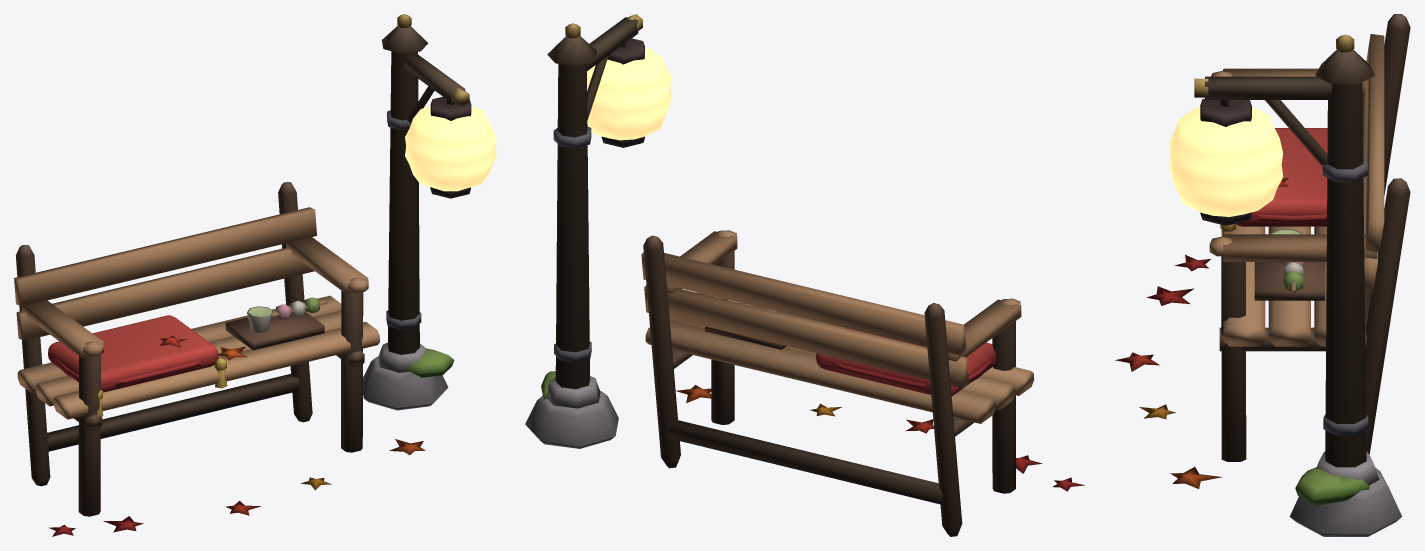
File: rg-maple-bench.glb
3 renders of one model, left to right at view 1: azimuth 30°, elevation 25°; view 2: azimuth 150°, elevation 25°; view 3: azimuth 270°, elevation 25°, orthographic. The views are drawn at different scales.
Visible parts, largest first — view 1: body, glow; view 2: body, glow; view 3: body, glow.
Boxes of the visible parts, left/top/right/bottom form: body: left=14, top=14, right=471, bottom=536; glow: left=405, top=106, right=496, bottom=191; body: left=525, top=14, right=1084, bottom=536; glow: left=587, top=48, right=671, bottom=140; body: left=1115, top=14, right=1410, bottom=536; glow: left=1169, top=107, right=1283, bottom=216.
Size of the model in its own units: 1.91 by 1.55 by 0.8448.
